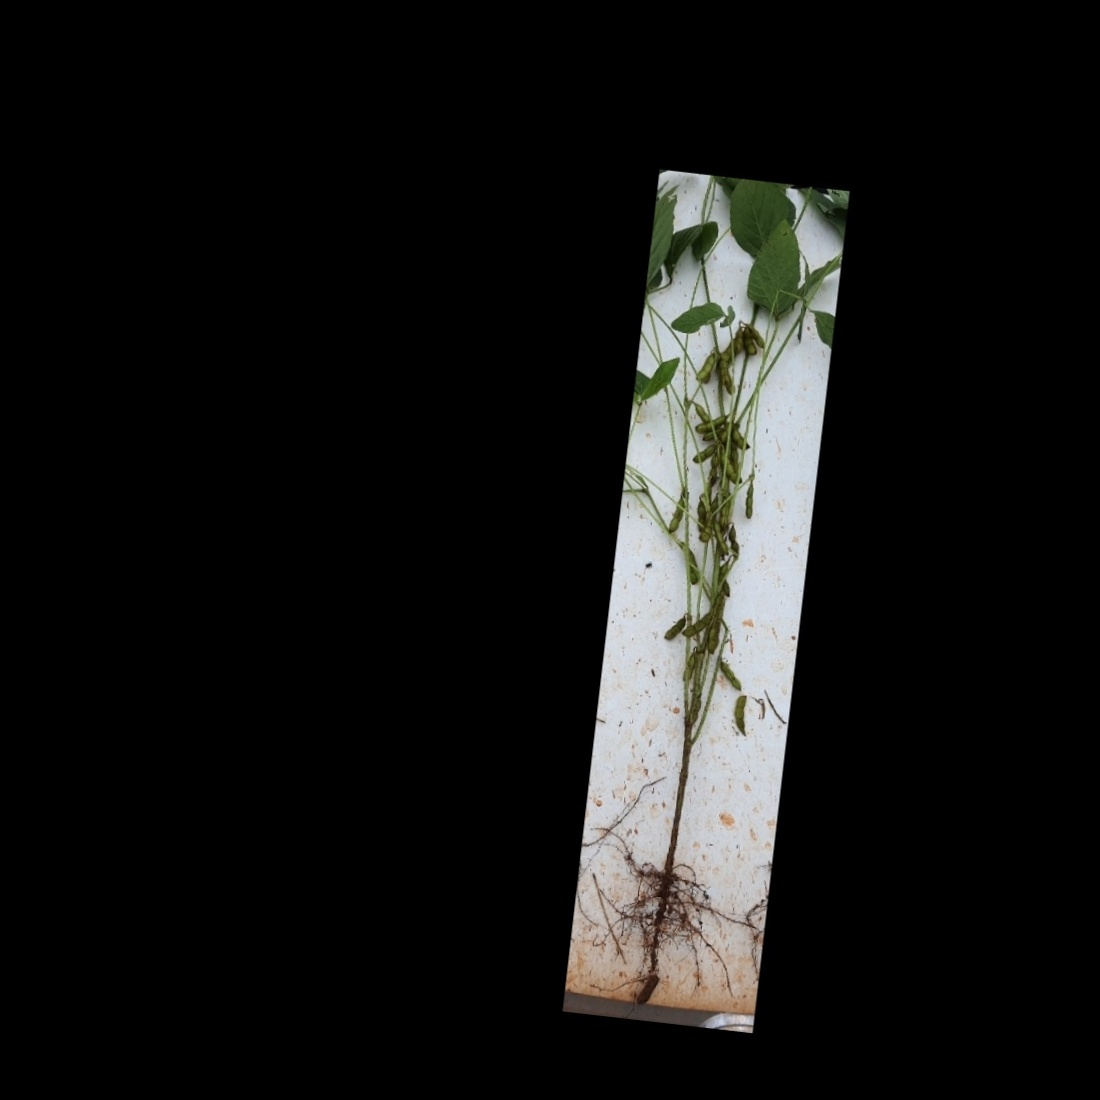pod: (662, 482, 692, 539), (704, 514, 735, 561), (727, 691, 755, 738), (658, 610, 693, 645), (692, 343, 719, 388), (716, 656, 748, 692), (734, 480, 761, 524), (680, 610, 716, 642), (691, 412, 732, 439), (734, 322, 762, 360), (688, 437, 720, 468)
soy: (578, 181, 846, 949)
